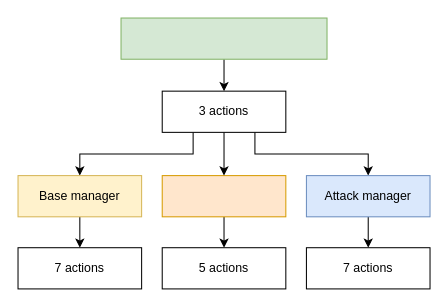
The diagram is 448 pixels wide and 307 high, and some of its shapes have lost their labels. The shapes that lost their labels are listed below. From the top down, each one's box as (x1, y1, x2, y2) in pixels, then its label:
(120, 17, 327, 59): Main agent
(161, 175, 286, 217): Recruit manager
